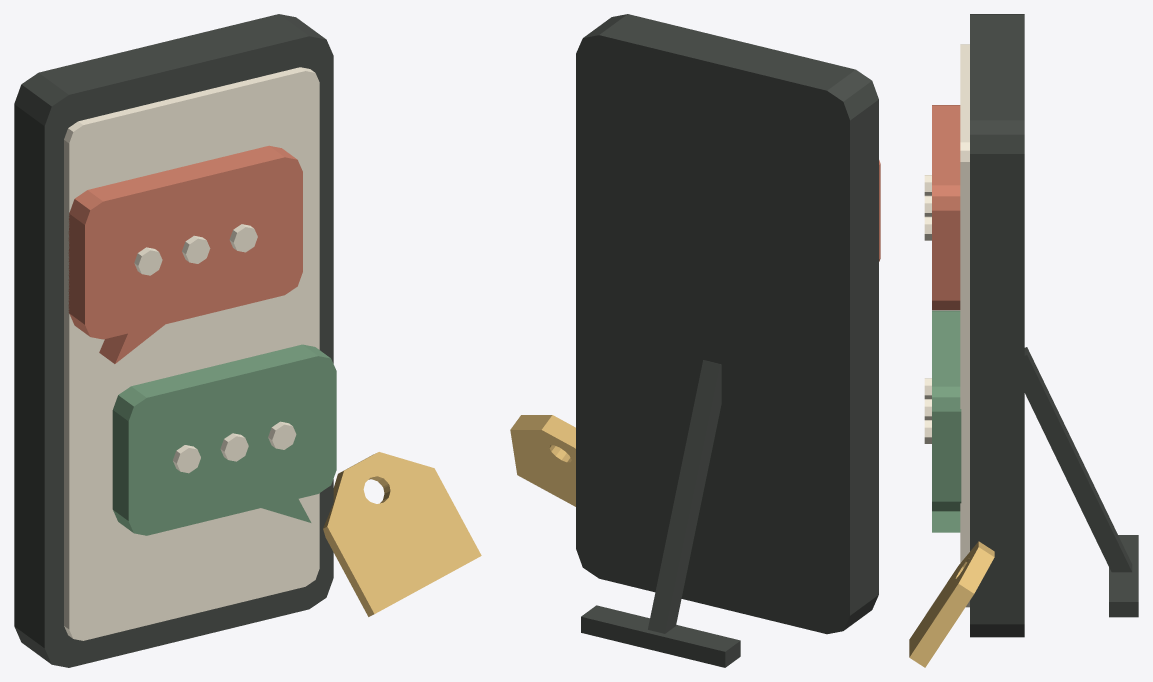
File: promo-chat.glb
3 renders of one model, left to right at view 1: azimuth 30°, elevation 25°; view 2: azimuth 150°, elevation 25°; view 3: azimuth 270°, elevation 25°, orthographic. The views are drawn at different scales.
Parts seen in each view (by area): view 1: promo-chat; view 2: promo-chat; view 3: promo-chat.
Part boxes in pixels (box(x1,y1,x2,y2)): promo-chat: box(14, 14, 481, 667); promo-chat: box(510, 14, 880, 667); promo-chat: box(909, 14, 1138, 667).
Size of the model in its own units: 0.4006 by 0.54 by 0.2174.
